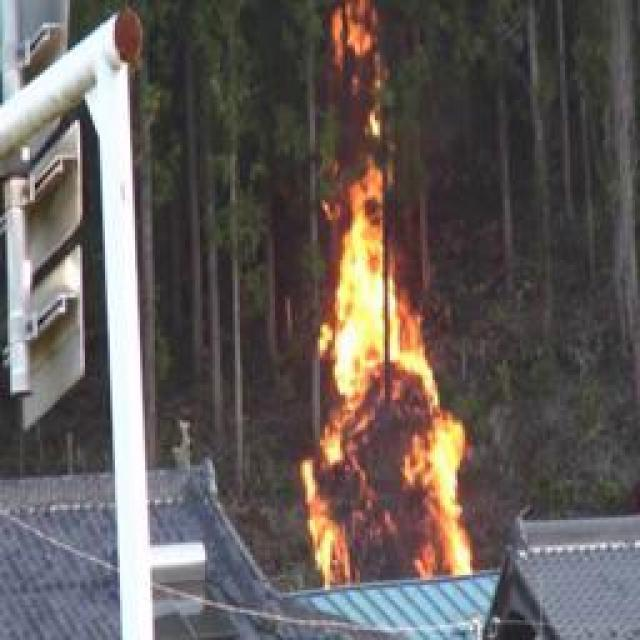Fire: (296, 180, 469, 586), (321, 6, 391, 91)
